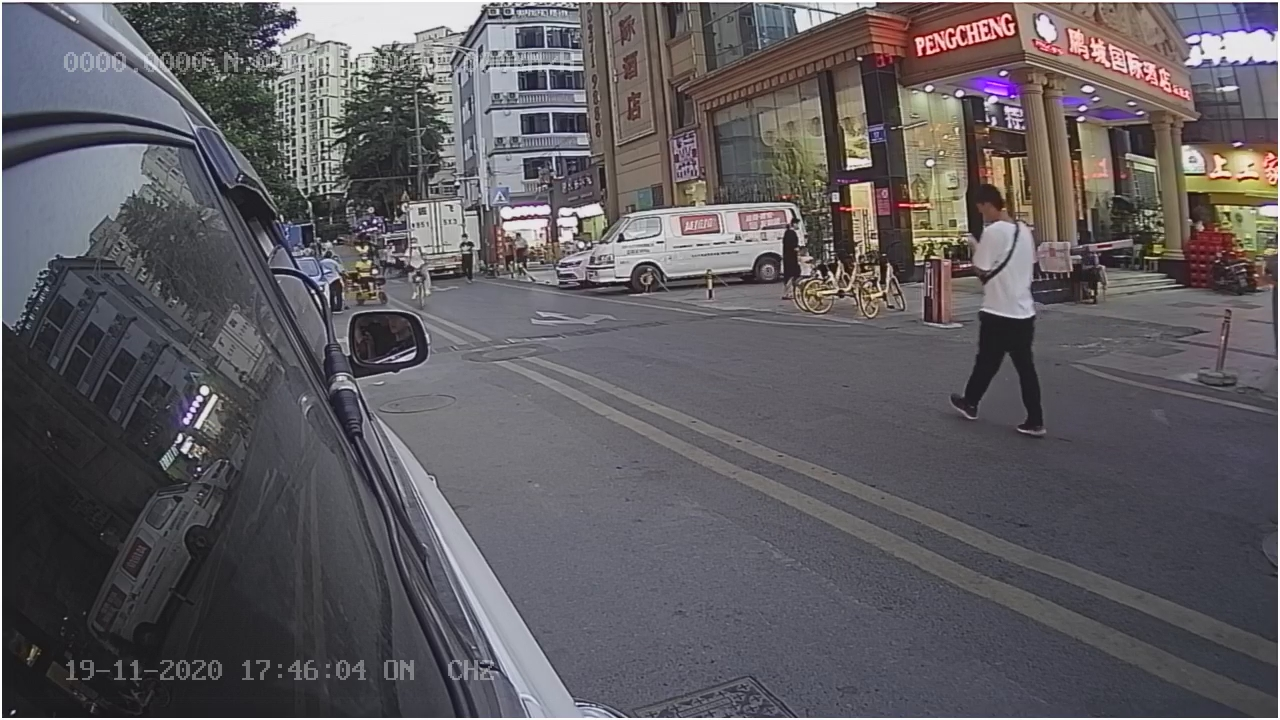person: (950, 182, 1052, 449)
